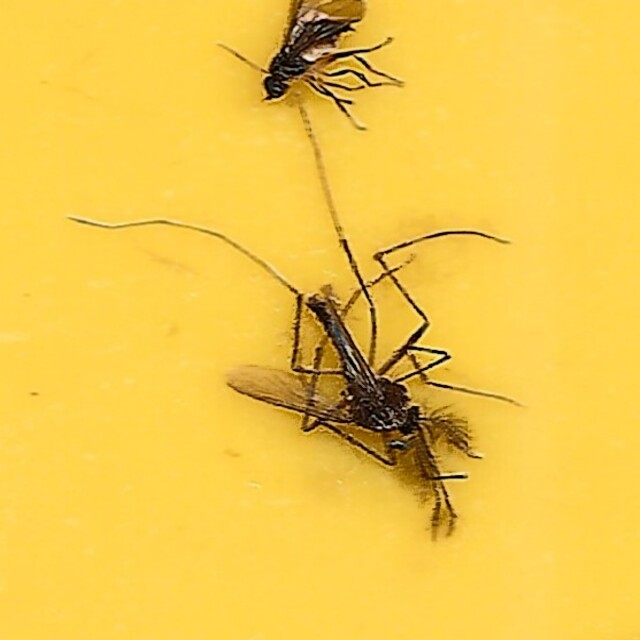Nematocera: (115, 106, 525, 534)
